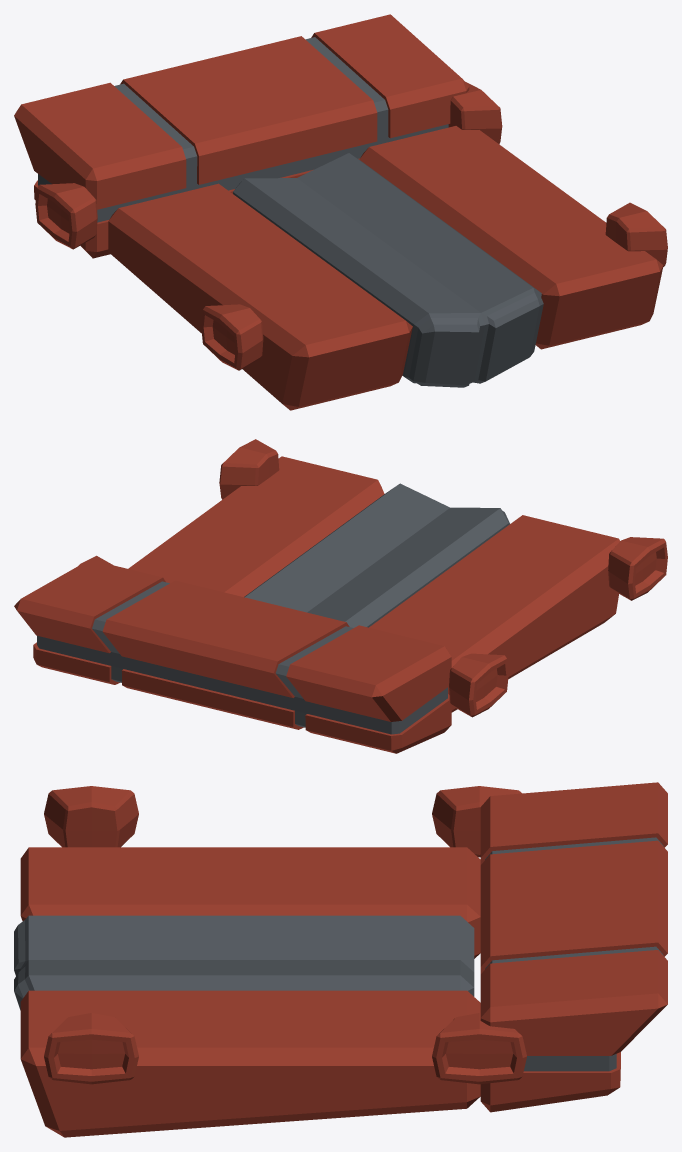
File: Dropship_01_Base_Red.fbx
The picture shows the model from 3 angles, top to bottom: view 1: azimuth 30°, elevation 25°; view 2: azimuth 150°, elevation 25°; view 3: azimuth 270°, elevation 25°; orthographic projection. The views are drawn at different scales.
Visible parts, largest first — view 1: Dropship_01_Base_Red; view 2: Dropship_01_Base_Red; view 3: Dropship_01_Base_Red.
Part boxes in pixels (box(x1,y1,x2,y2)): Dropship_01_Base_Red: box(14, 14, 667, 410); Dropship_01_Base_Red: box(14, 439, 667, 753); Dropship_01_Base_Red: box(14, 782, 667, 1137).
Size of the model in its own units: 925 by 292 by 1041.
Materials: 1 (1 with a texture image).
